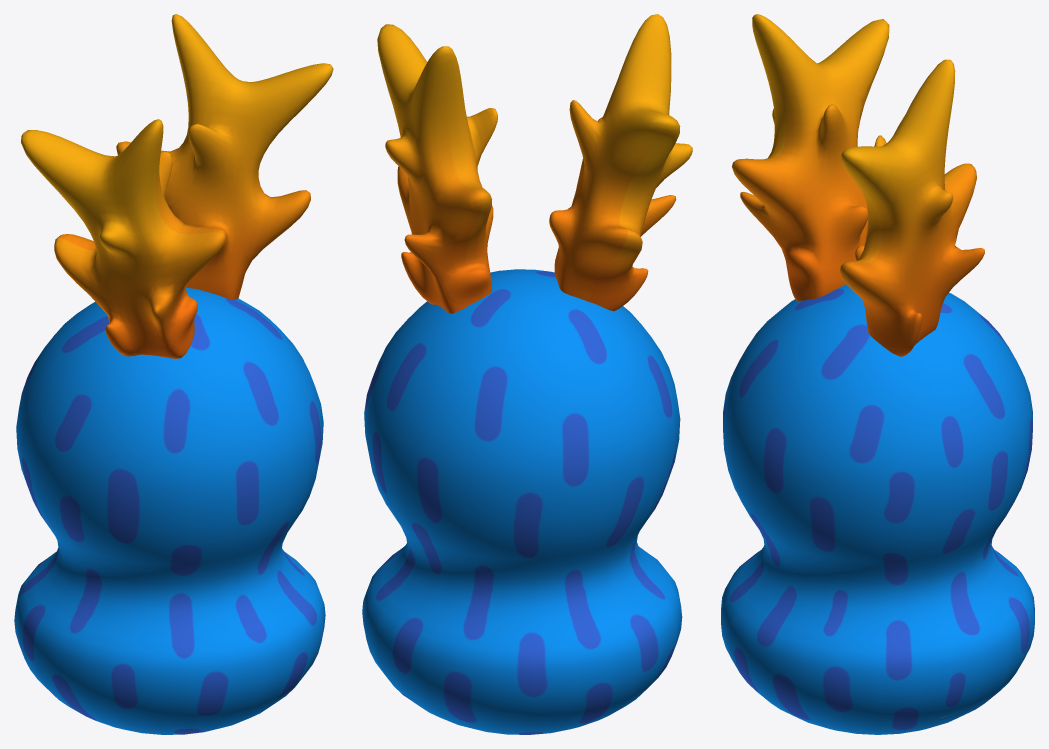
Rendered from Food_Fruit.fbx.
The picture shows the model from 3 angles, left to right: view 1: azimuth 30°, elevation 25°; view 2: azimuth 150°, elevation 25°; view 3: azimuth 270°, elevation 25°; orthographic projection. The views are drawn at different scales.
Parts seen in each view (by area): view 1: pCube3; view 2: pCube3; view 3: pCube3.
Boxes of the visible parts, x1=… form: pCube3: x1=14, y1=14, x2=333, y2=734; pCube3: x1=362, y1=14, x2=692, y2=734; pCube3: x1=721, y1=14, x2=1034, y2=734.
Bounding box in the file's own units: 14.27 × 30.33 × 12.77.
Materials: 1 (1 with a texture image).
